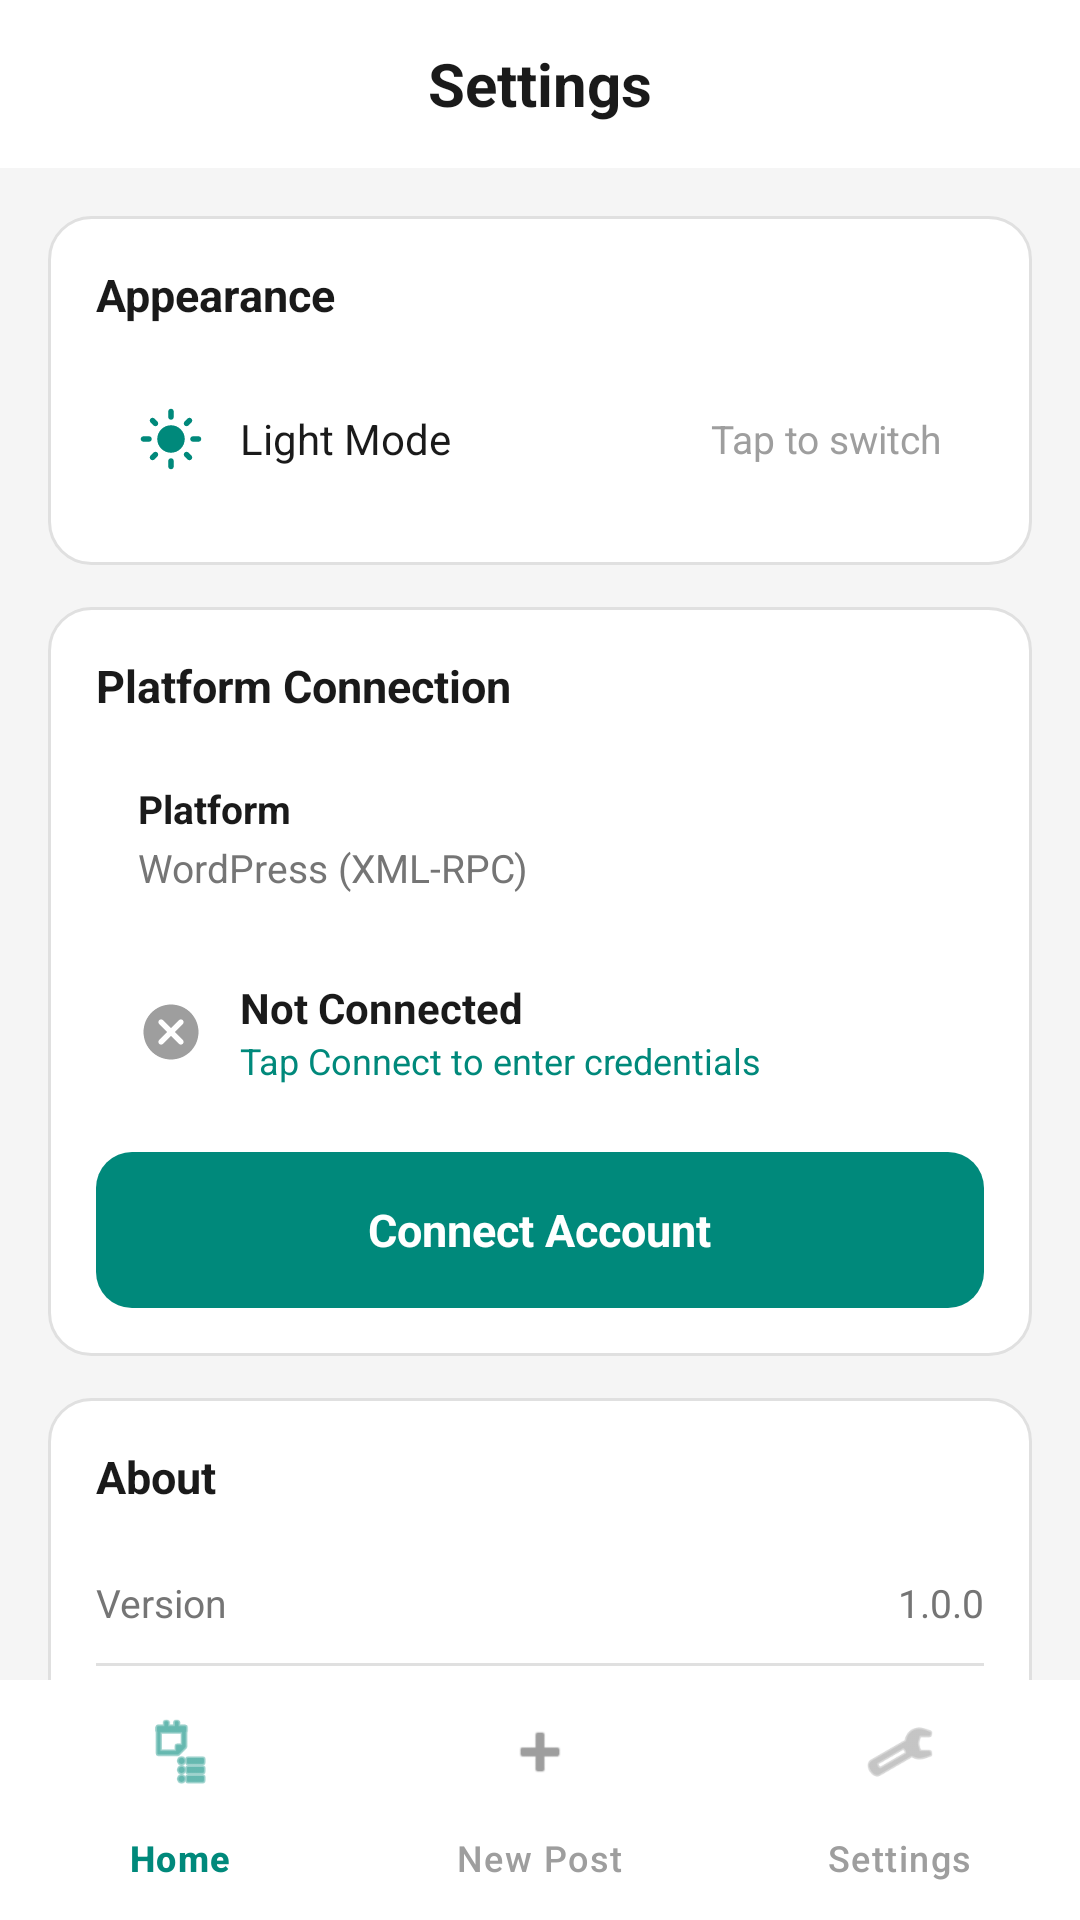

Named icons in this screenshot (1080x1920) and their centers, point (x, y):
status: point (171, 1032)
theme: point (171, 439)
